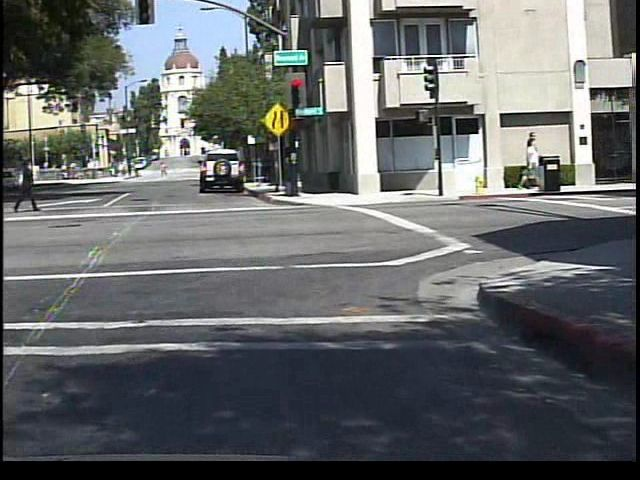person: (9, 156, 40, 215), (3, 168, 30, 229), (157, 160, 168, 179)
